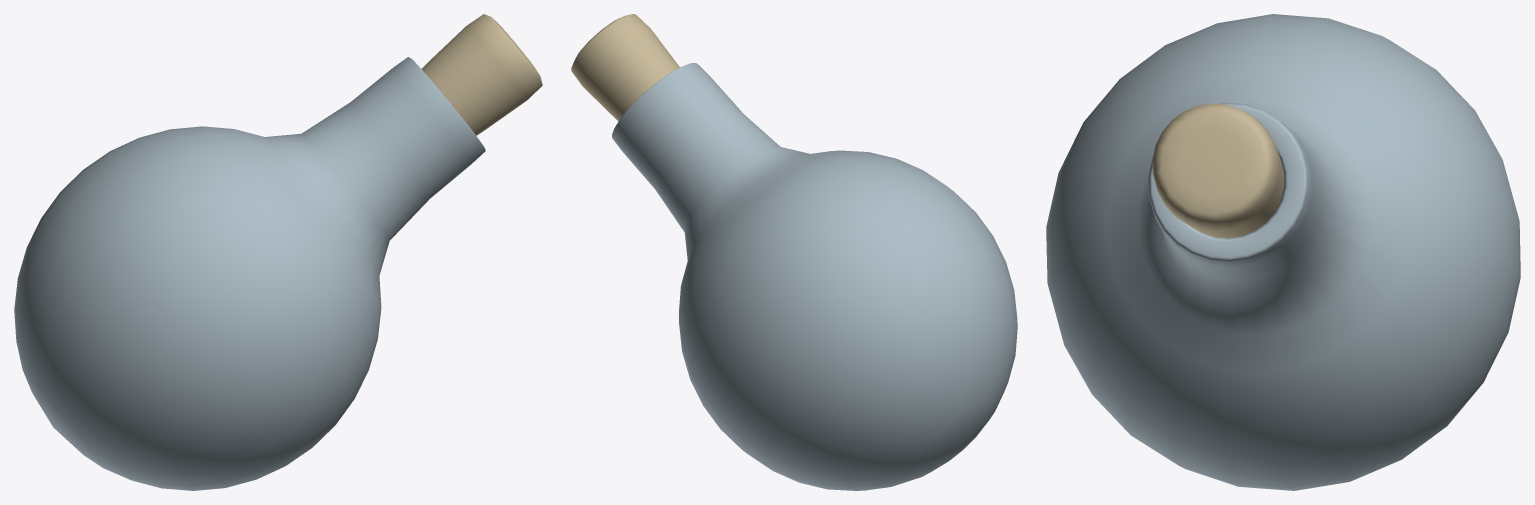
3 views of the same model, side by side, from view 1: azimuth 30°, elevation 25°; view 2: azimuth 150°, elevation 25°; view 3: azimuth 270°, elevation 25° (orthographic). The views are drawn at different scales.
Visible parts, largest first — view 1: A; view 2: A; view 3: A.
Part boxes in pixels (box(x1,y1,x2,y2)): A: box(14, 14, 542, 490); A: box(571, 14, 1017, 490); A: box(1046, 14, 1520, 490).
Size of the model in its own units: 1.33 by 1.09 by 0.8761.
